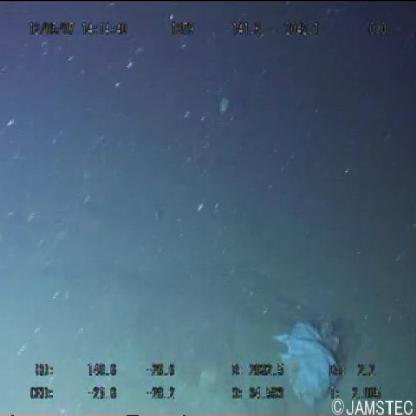Rác: (272, 319, 340, 408)
